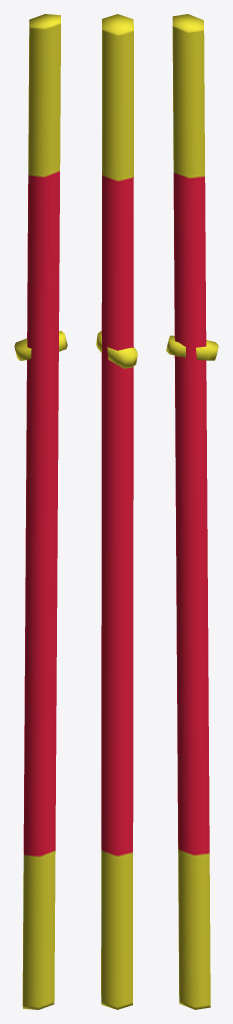
File: AF_M_Prop_17.FBX
3 renders of one model, left to right at view 1: azimuth 90°, elevation 25°; view 2: azimuth 210°, elevation 25°; view 3: azimuth 270°, elevation 25°, orthographic.
Visible parts, largest first — view 1: AF_M_Prop_17; view 2: AF_M_Prop_17; view 3: AF_M_Prop_17.
Boxes of the visible parts, left/top/right/bottom form: AF_M_Prop_17: left=14, top=14, right=67, bottom=1009; AF_M_Prop_17: left=96, top=14, right=137, bottom=1009; AF_M_Prop_17: left=166, top=14, right=218, bottom=1009.
Size of the model in its own units: 46.75 by 1219 by 59.52.
1 material, 1 textured.
